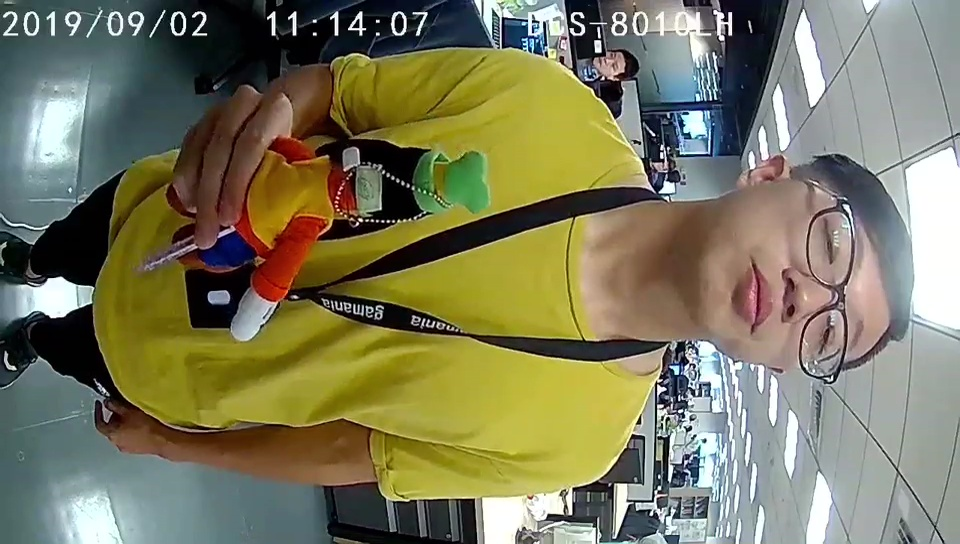goofy: (230, 143, 491, 343)
